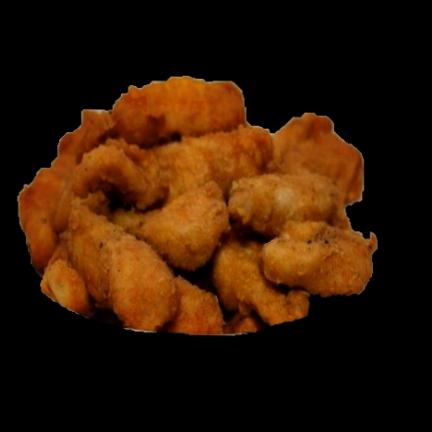chicken: (19, 77, 376, 334)
